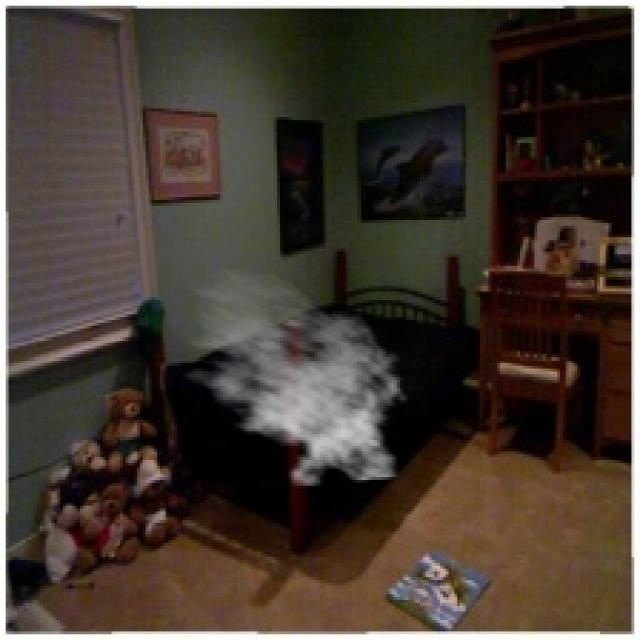smoke: (172, 266, 412, 488)
